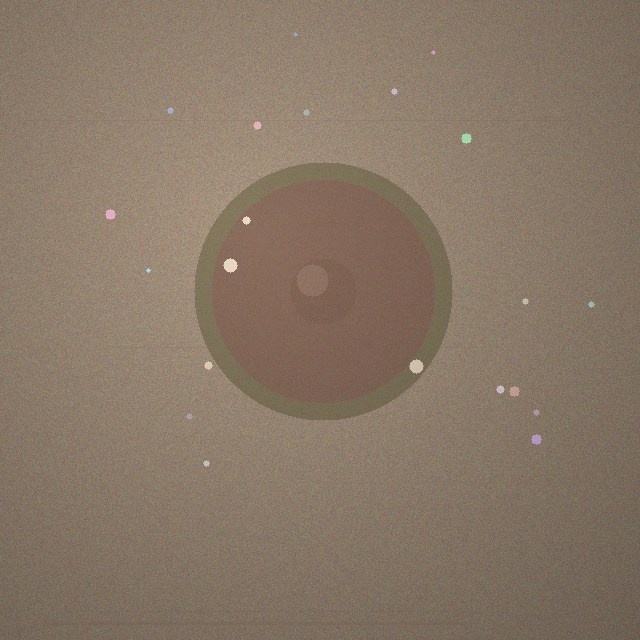overburn: (194, 162, 452, 420)
